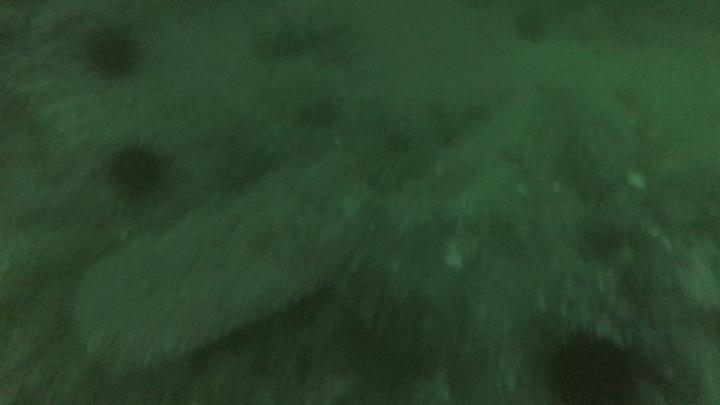echinus: (544, 321, 641, 405), (106, 137, 169, 203), (81, 23, 142, 79)
